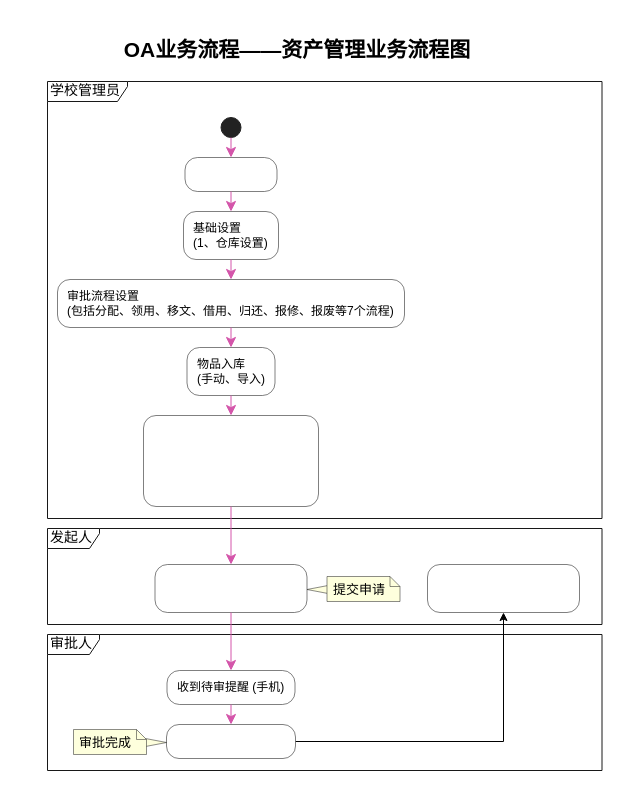
Image size: 619x788. Some labels were removed from this diagram. Here are the shapes that lost their labels. From the top down, the centre of each, then its label:
At pixel 230 174: "物理位置设置".
At pixel 230 460: "库存查询 (1、所有仓库物品查询与导出 2、库存统计与导出 3、个人物品查询与导出 4、报废物品统计与导出)".
At pixel 230 588: "发起申请 (pc) 流程完结前，可撤销申请".
At pixel 503 588: "审批完结信息提醒（手机）".
At pixel 230 741: "审批申请 (手机、pc)".
